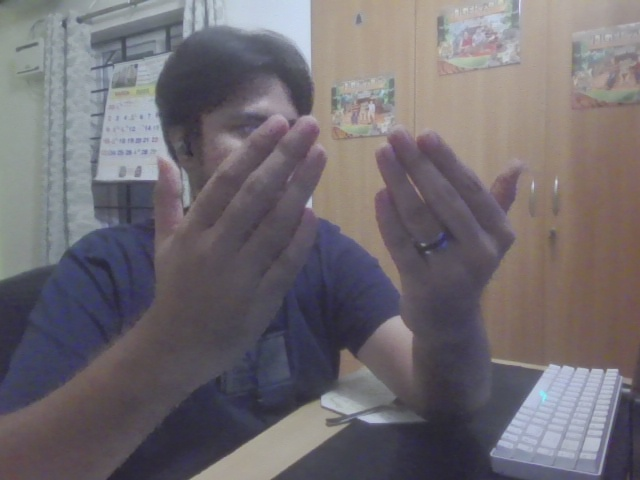thankyou: (151, 112, 527, 353)
